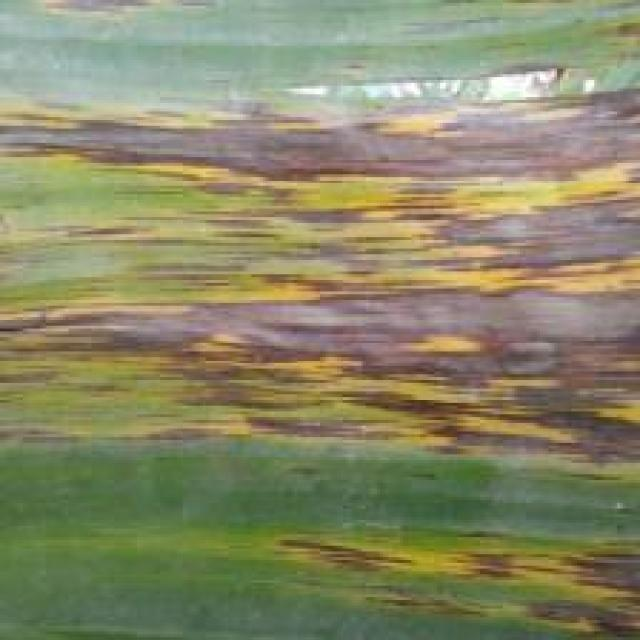Early_leaf_spot: (0, 74, 640, 474), (249, 507, 640, 640), (29, 0, 174, 40), (577, 6, 640, 84)
